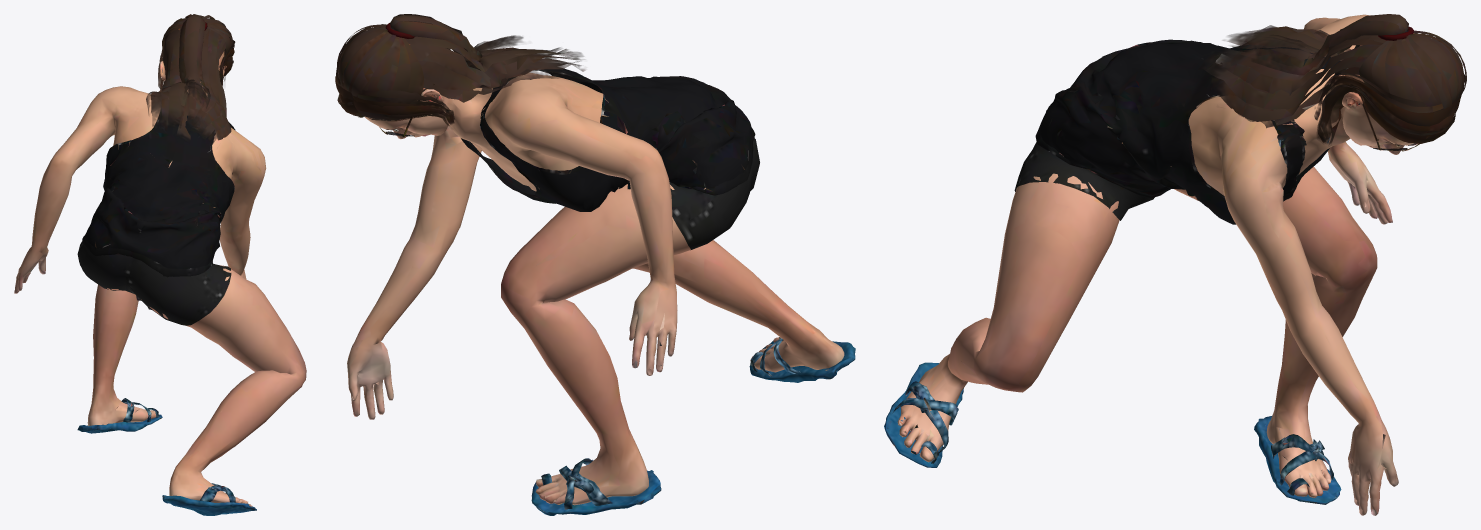
The picture shows the model from 3 angles, left to right: view 1: azimuth 30°, elevation 25°; view 2: azimuth 150°, elevation 25°; view 3: azimuth 270°, elevation 25°; orthographic projection. The views are drawn at different scales.
Parts seen in each view (by area): view 1: p00886; view 2: p00886; view 3: p00886.
Part boxes in pixels (x1,y1,x2,y2): p00886: [14, 14, 306, 515]; p00886: [335, 14, 855, 515]; p00886: [884, 14, 1466, 515].
Size of the model in its own units: 0.6318 by 0.9384 by 0.9106.
1 material, 1 textured.
